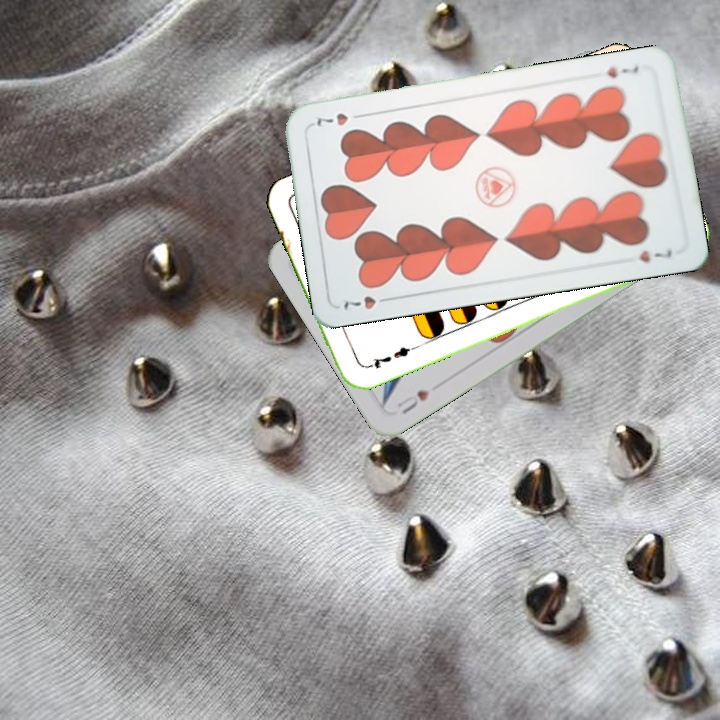E7: (359, 342, 417, 372)
H7: (338, 292, 396, 313), (603, 62, 641, 81)
HU: (392, 385, 433, 417)
